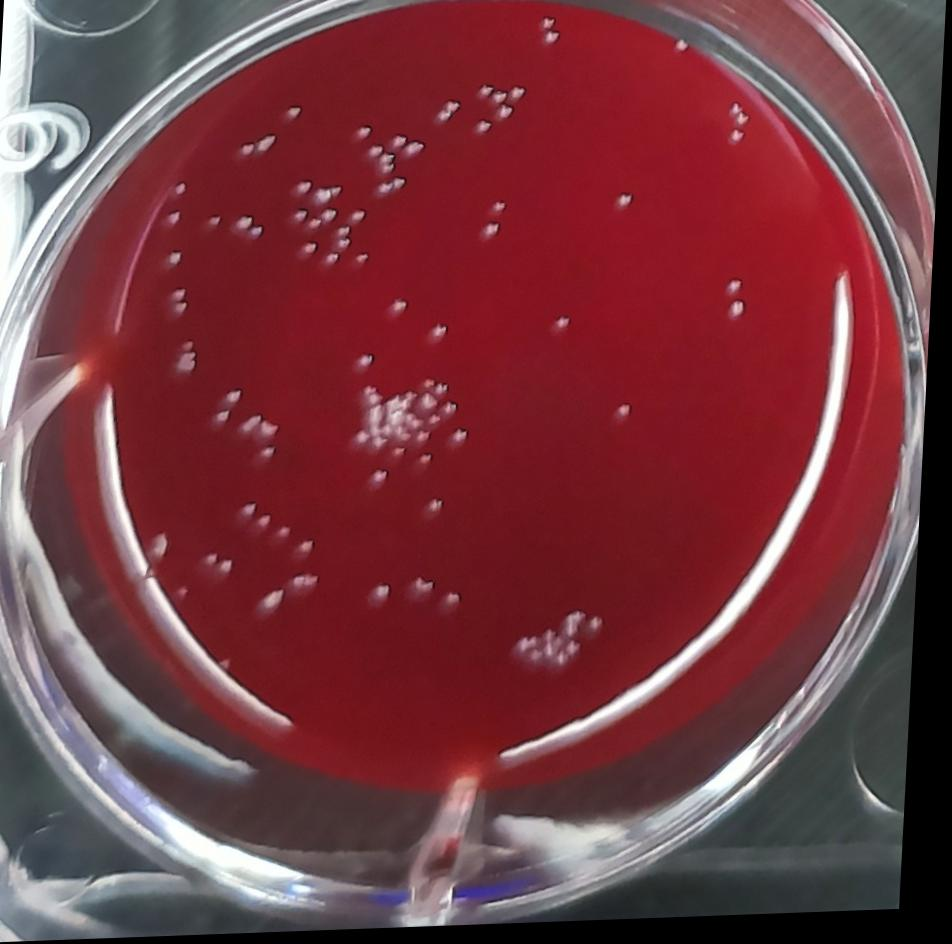staphylo-: (387, 394, 423, 440), (263, 586, 292, 617), (149, 533, 176, 563), (568, 611, 594, 642), (180, 339, 202, 375), (296, 572, 330, 594), (726, 302, 752, 327), (375, 584, 401, 608), (370, 407, 389, 438), (243, 415, 271, 436), (615, 404, 639, 428), (419, 575, 444, 598), (358, 351, 383, 374), (243, 499, 266, 523), (614, 193, 638, 216), (430, 323, 453, 346), (483, 221, 508, 242), (391, 296, 414, 318), (403, 143, 429, 162), (257, 134, 279, 156), (592, 615, 613, 638), (429, 498, 452, 519), (553, 316, 576, 337), (224, 553, 244, 577), (300, 241, 322, 262), (263, 421, 286, 441), (367, 385, 387, 408), (726, 280, 747, 301), (491, 92, 513, 112), (293, 206, 312, 229), (474, 119, 497, 138), (423, 395, 444, 415), (322, 208, 343, 228), (285, 106, 305, 127), (374, 471, 396, 490), (236, 214, 258, 233), (379, 155, 398, 177), (540, 33, 562, 51), (316, 188, 335, 208), (263, 513, 281, 534), (455, 430, 476, 448), (168, 206, 186, 227), (215, 411, 238, 427), (173, 285, 192, 304), (730, 131, 749, 150), (450, 594, 470, 612), (303, 540, 323, 558), (264, 445, 284, 463), (357, 124, 377, 142), (477, 85, 497, 103), (378, 182, 399, 199), (230, 388, 249, 406), (419, 430, 438, 448), (356, 252, 374, 271), (672, 41, 690, 60), (324, 252, 344, 269), (445, 402, 463, 420), (172, 181, 190, 199), (496, 107, 515, 124), (419, 454, 439, 470), (520, 640, 538, 657), (551, 645, 568, 663), (535, 636, 553, 653), (727, 107, 745, 124), (356, 431, 375, 447), (430, 415, 449, 431), (395, 445, 412, 462), (251, 225, 268, 242), (572, 644, 590, 660), (352, 210, 370, 226), (338, 223, 356, 239), (437, 384, 456, 399), (493, 201, 510, 217), (298, 181, 315, 197), (511, 89, 528, 105), (175, 301, 193, 316), (170, 250, 186, 266), (395, 178, 411, 194), (209, 215, 226, 230), (393, 136, 410, 151), (536, 651, 550, 669), (283, 527, 299, 542), (242, 142, 257, 158), (211, 552, 225, 569), (370, 147, 387, 161), (549, 632, 568, 644), (309, 218, 324, 233), (426, 379, 441, 394), (562, 655, 578, 669), (337, 239, 354, 252), (737, 116, 752, 130), (376, 437, 391, 451)
